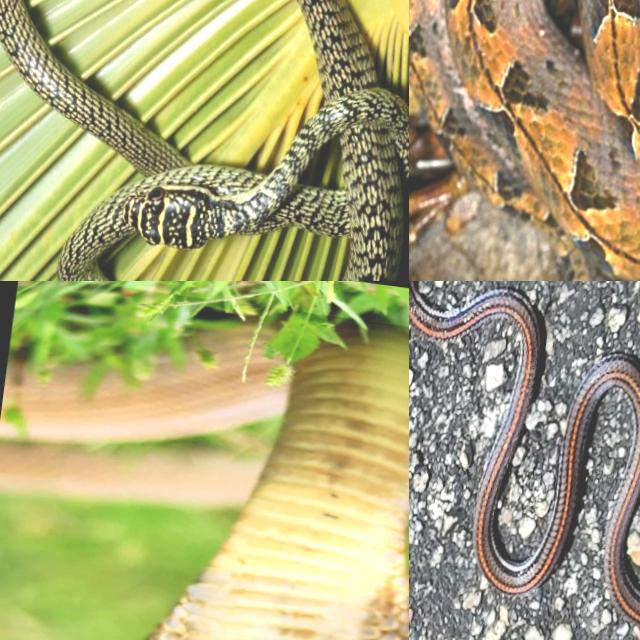Calliophis intestinalis: (409, 281, 639, 624)
Calloselasma rhodostoma: (409, 0, 639, 280)
Chrysopelea ornata: (0, 0, 408, 280)
Ophiophagus hannah: (0, 322, 408, 639)
snake: (0, 322, 408, 639), (0, 0, 408, 280), (409, 281, 639, 624), (409, 0, 639, 280)
